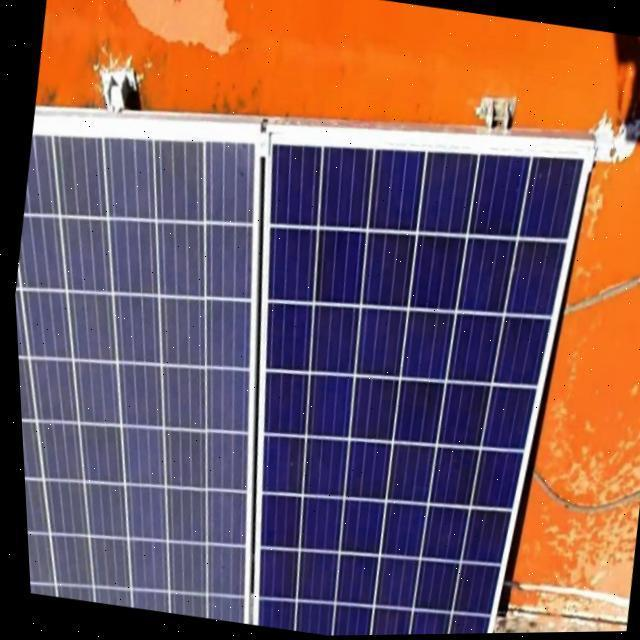Normal Solar Panel: (194, 111, 604, 638)
